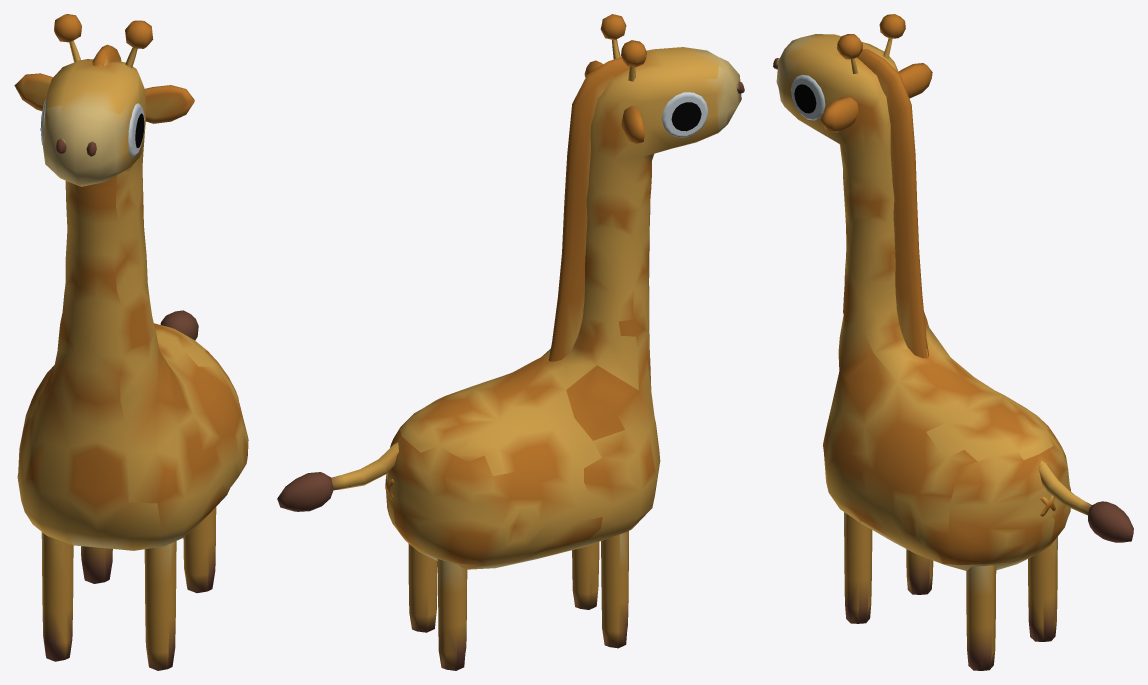
Rendered from Giraffe.glb.
3 views of the same model, side by side, from view 1: azimuth 30°, elevation 25°; view 2: azimuth 150°, elevation 25°; view 3: azimuth 270°, elevation 25° (orthographic). The views are drawn at different scales.
Visible parts, largest first — view 1: 58; view 2: 58; view 3: 58.
Boxes of the visible parts, x1,y1,x2,y2 form: 58: (14, 14, 248, 670); 58: (277, 14, 744, 670); 58: (773, 14, 1133, 670).
Size of the model in its own units: 1.04 by 2.01 by 1.14.
